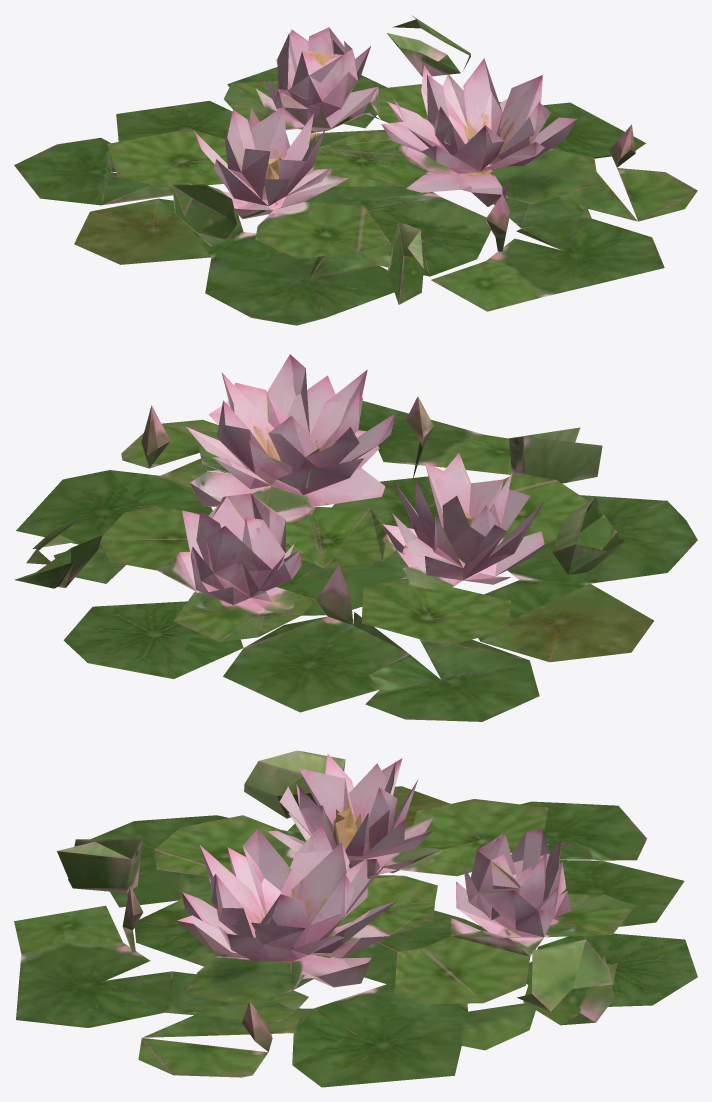
The model's file is lotus.glb.
3 views of the same model, one above another, from view 1: azimuth 30°, elevation 25°; view 2: azimuth 150°, elevation 25°; view 3: azimuth 270°, elevation 25° (orthographic). The views are drawn at different scales.
Visible parts, largest first — view 1: output_unwrapped; view 2: output_unwrapped; view 3: output_unwrapped.
Part boxes in pixels (x1,y1,x2,y2): output_unwrapped: (14,15,697,325); output_unwrapped: (14,354,697,721); output_unwrapped: (14,750,697,1087).
Size of the model in its own units: 3 by 0.6473 by 2.92.
Materials: 1 (1 with a texture image).
